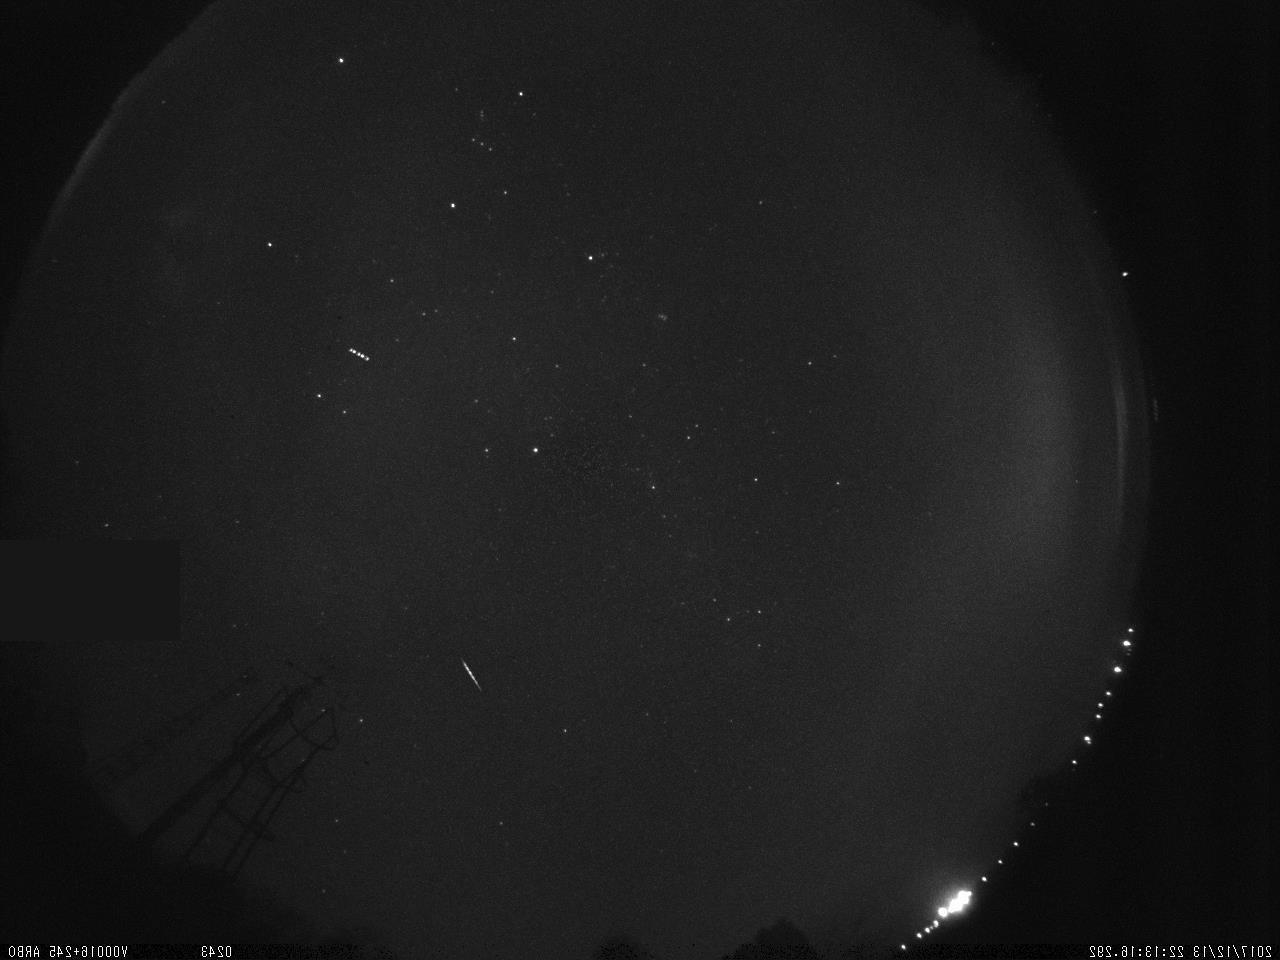meteor: (443, 642, 494, 695)
